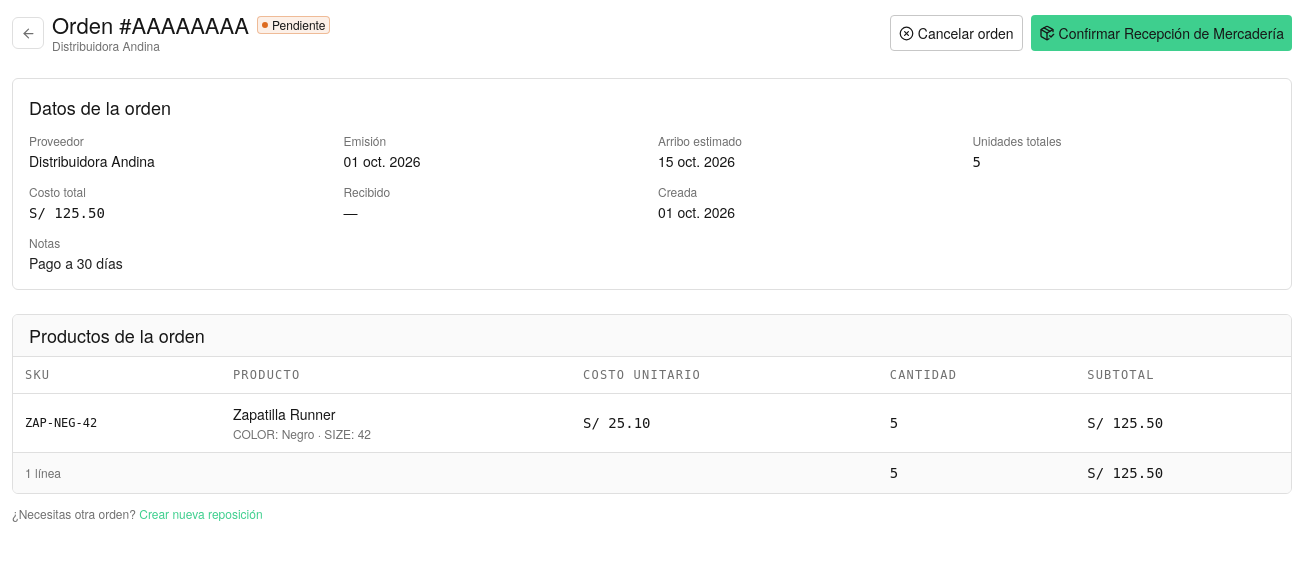
Test case: DetalleReposicionPage (HU036 CA08/CA10) › muestra el error de la API si la recepción falla
Expected: the heading "Orden #AAAAAAAA" is shown, left=52, top=12, right=249, bottom=38
Click the button "Confirmar Recepción de Mercadería": (1161, 33) left=1031, top=15, right=1292, bottom=51
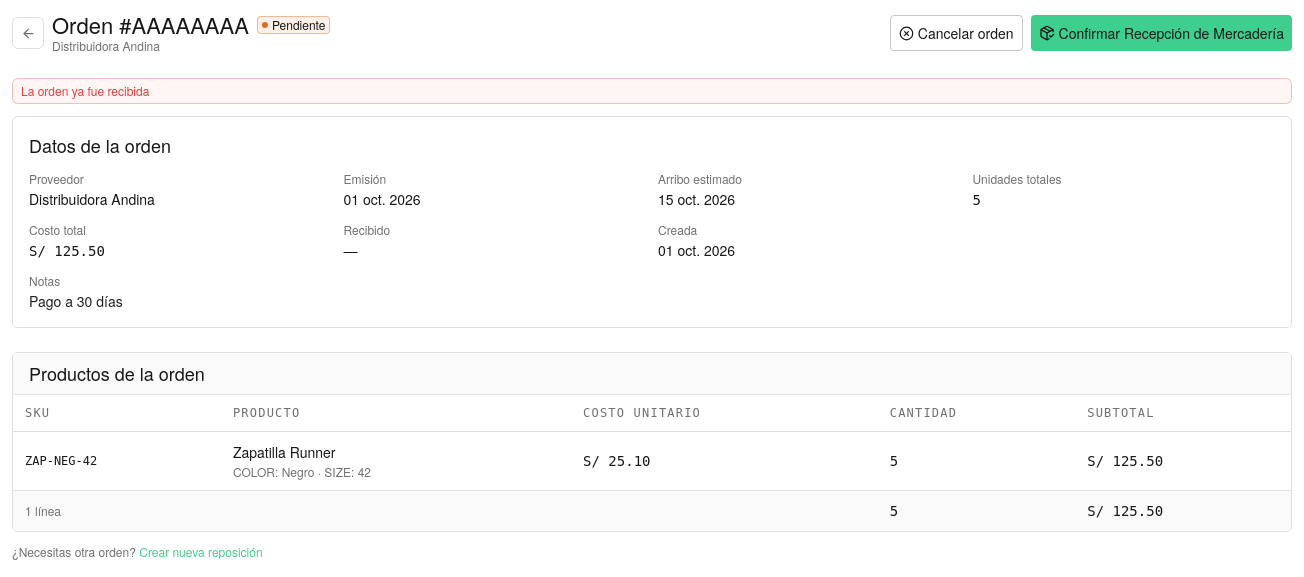
Now the message reads "La orden ya fue recibida", box left=21, top=82, right=149, bottom=99
